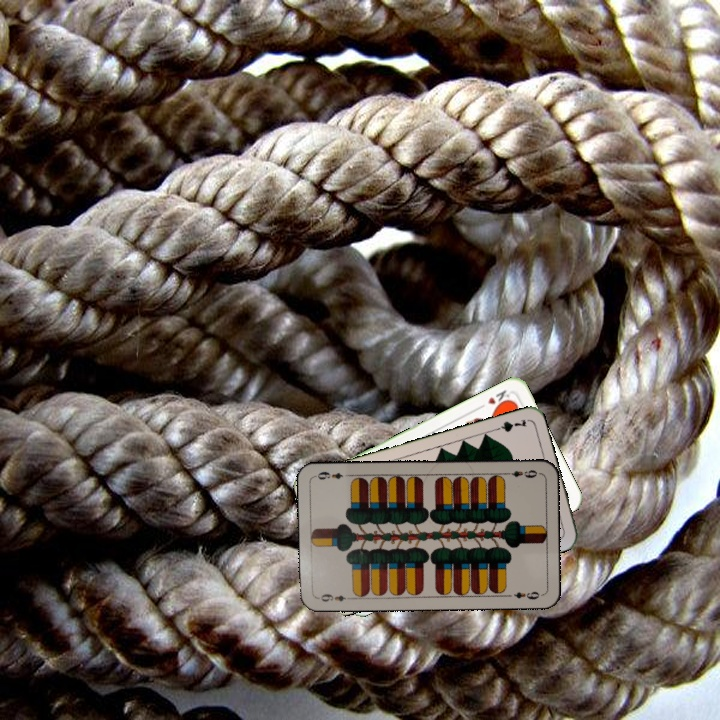E9: (501, 466, 540, 481), (314, 590, 355, 604)
G7: (489, 415, 529, 435)
HK: (475, 386, 514, 412)
